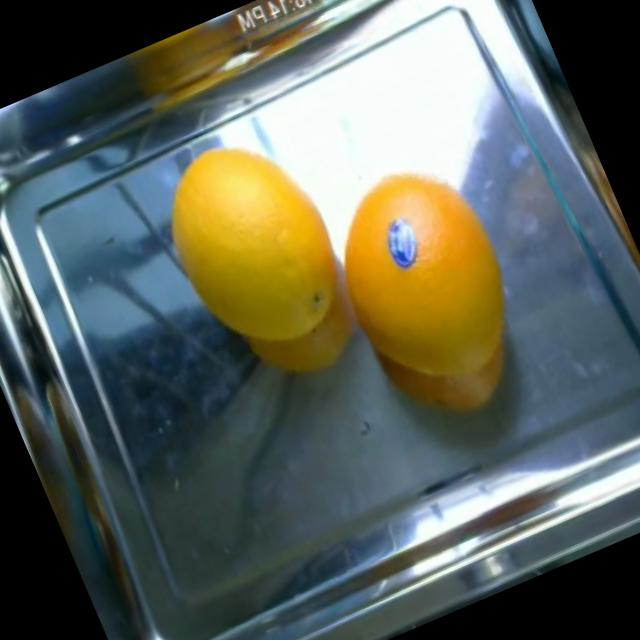Fruit: (128, 97, 374, 366), (328, 214, 559, 456)
